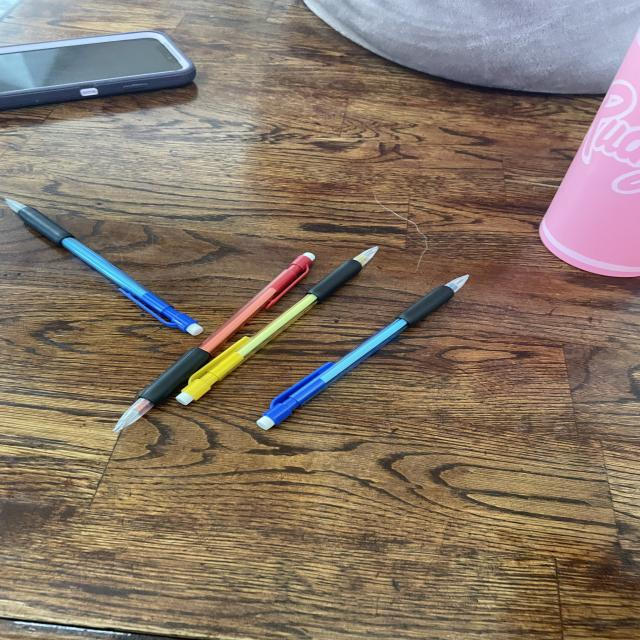mechanical-pencils: (103, 250, 325, 441), (241, 272, 478, 435), (169, 249, 383, 407), (5, 195, 208, 340)
